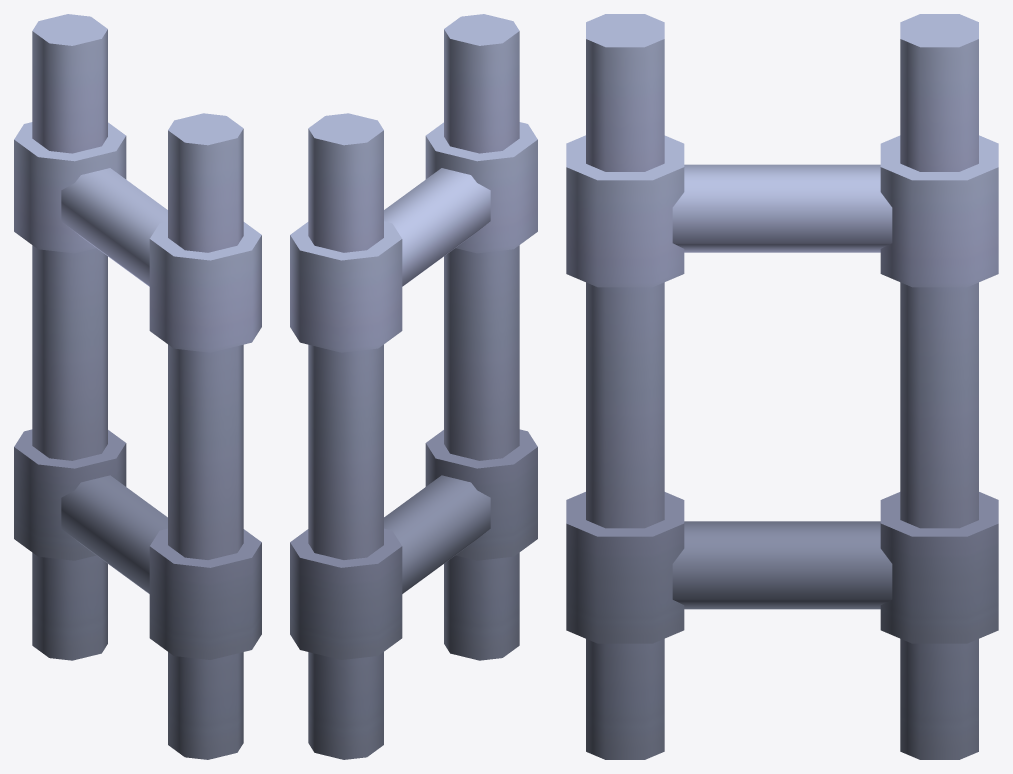
Rendered from kenney-prototype-ladder.glb.
3 renders of one model, left to right at view 1: azimuth 30°, elevation 25°; view 2: azimuth 150°, elevation 25°; view 3: azimuth 270°, elevation 25°, orthographic. The views are drawn at different scales.
Visible parts, largest first — view 1: ladder; view 2: ladder; view 3: ladder.
Boxes of the visible parts, x1,y1,x2,y2 form: ladder: (14, 14, 261, 759); ladder: (290, 14, 537, 759); ladder: (566, 14, 998, 759).
Bounding box in the file's own units: 0.15 × 1 × 0.55.
Materials: 1 (1 with a texture image).
